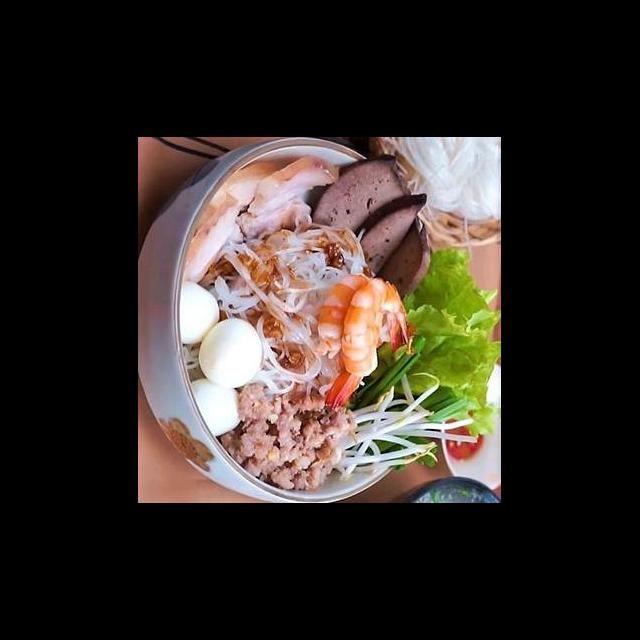banh hu tieu: (204, 220, 378, 399)
gan: (308, 151, 416, 238), (352, 190, 431, 279), (370, 212, 436, 304)
hu tieu: (138, 161, 502, 503)
thit bam: (208, 378, 360, 495)
thit heo: (244, 150, 346, 221), (176, 200, 248, 287)
tom: (312, 272, 392, 413), (338, 275, 418, 380)
trung: (196, 314, 266, 391), (182, 376, 248, 439), (170, 278, 223, 347)
